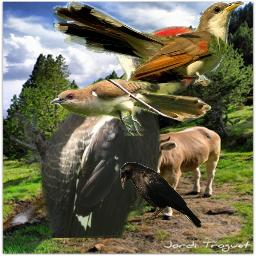Crow: (120, 162, 203, 228)
Cuckoo: (53, 1, 244, 86), (50, 79, 212, 136)
Woodpecker: (10, 22, 208, 238)
